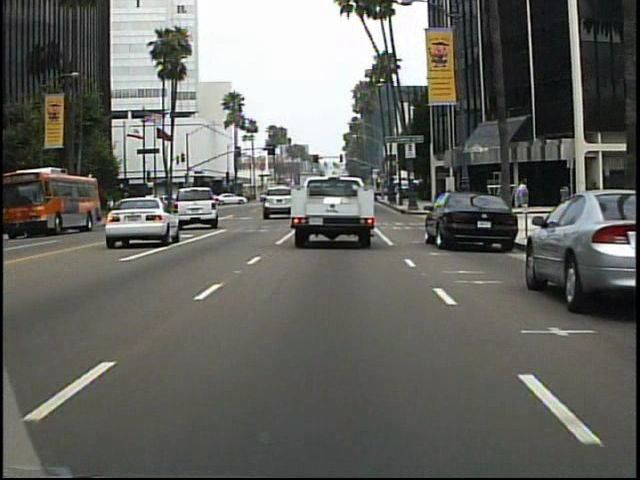person: (517, 178, 529, 194)
